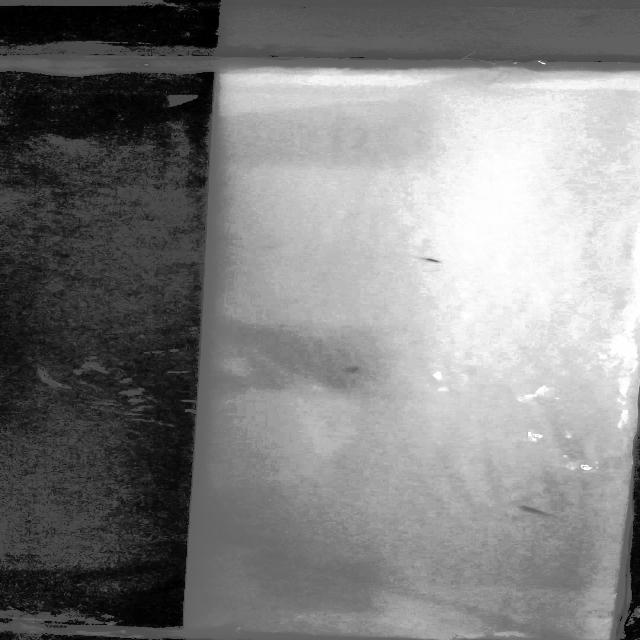shrimp: (336, 358, 374, 380), (514, 500, 554, 519), (411, 252, 454, 266)
